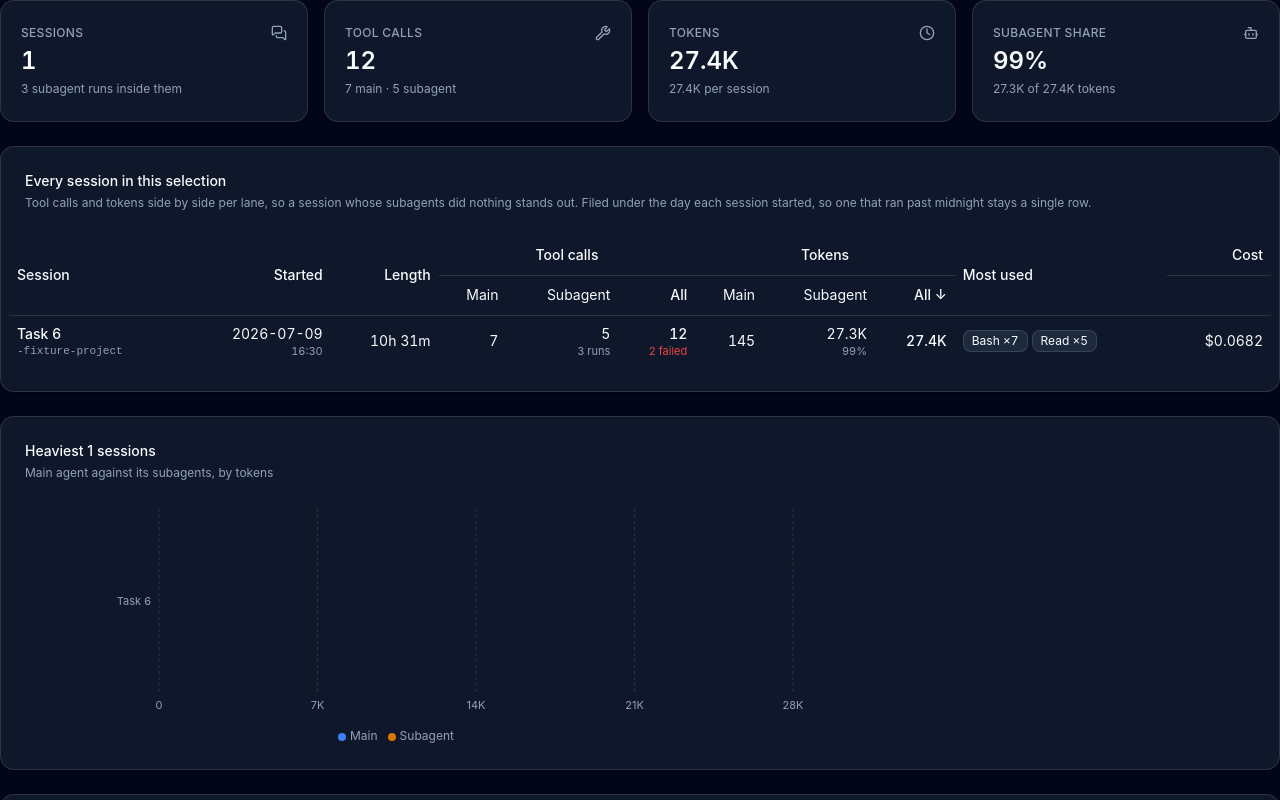
it: Sessions detail dialog › stays closed until a row is clicked
Click the row that starts with "Task 6" at (70,350), box top-left (9, 315), bottom-right (1271, 367)
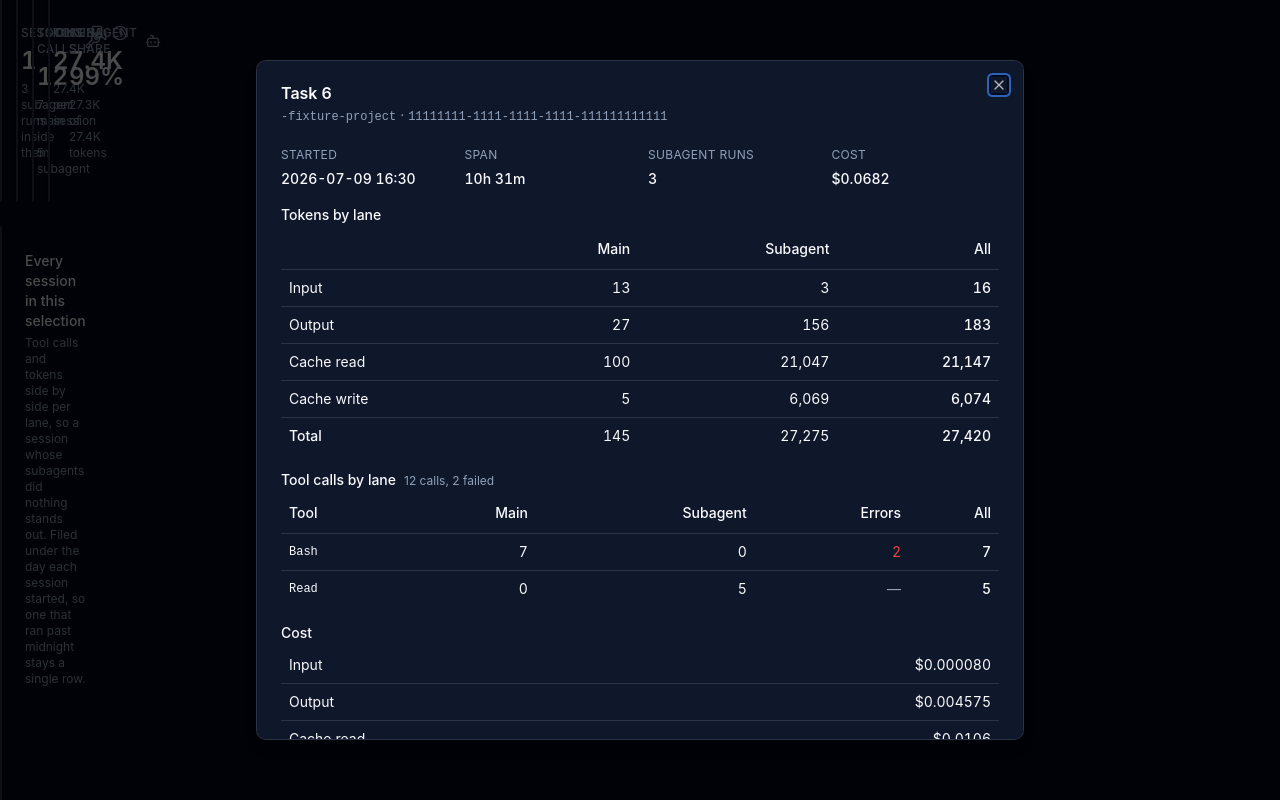
Check: the dialog with test id "dialog-session" is shown, box top-left (256, 60), bottom-right (1024, 740)
